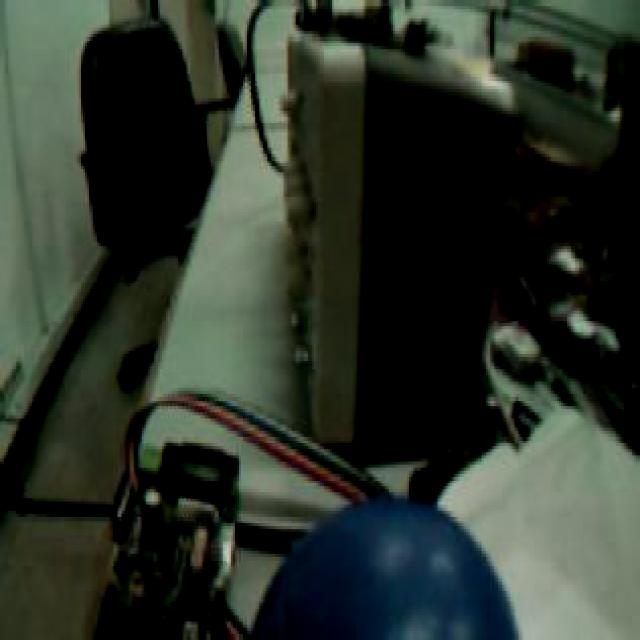BallPurple: (250, 496, 516, 640)
